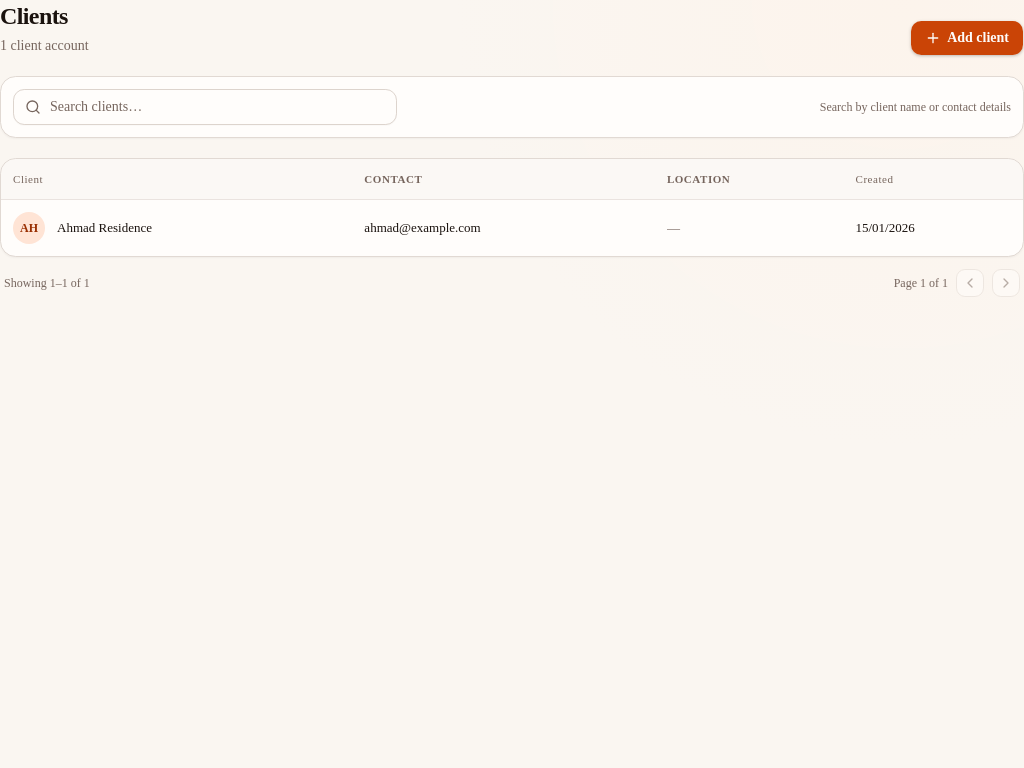
it: ClientList › opens a create dialog and refreshes the list after a successful create
Expected: the text "Ahmad Residence" is shown, x1=57 y1=218 x2=152 y2=237
Click the button "Add client" at {"x": 967, "y": 38}, box x1=910 y1=20 x2=1023 y2=56
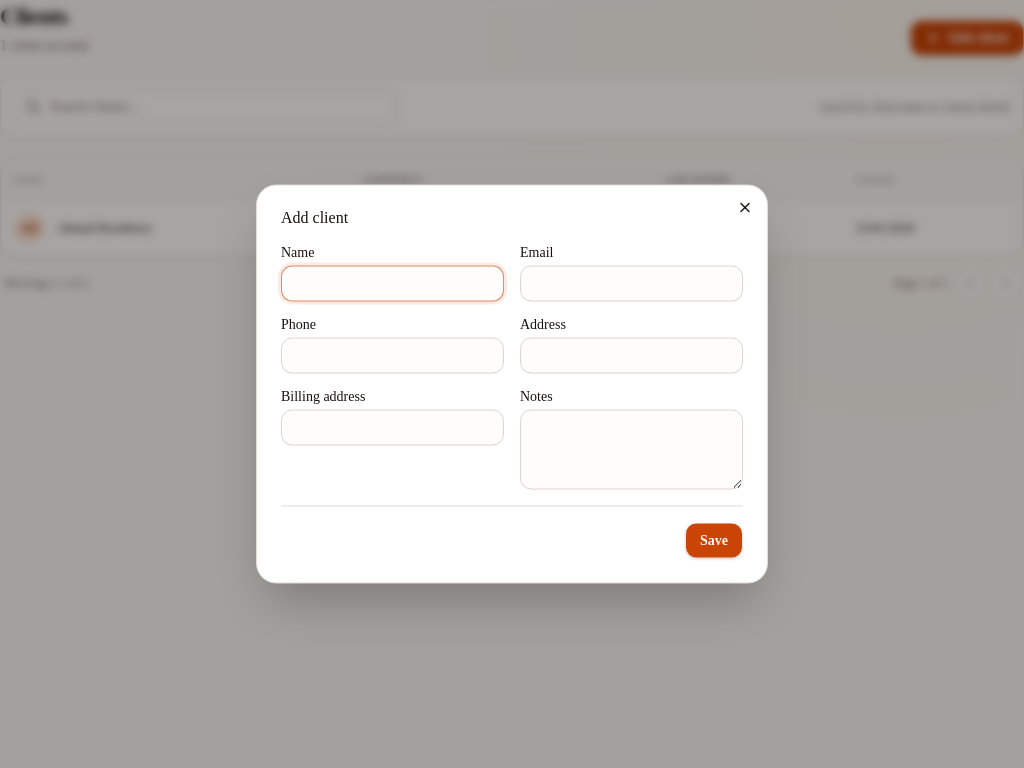
Type "New Client" into the field labelled "Name" at {"x": 392, "y": 284}, box x1=281 y1=266 x2=504 y2=302
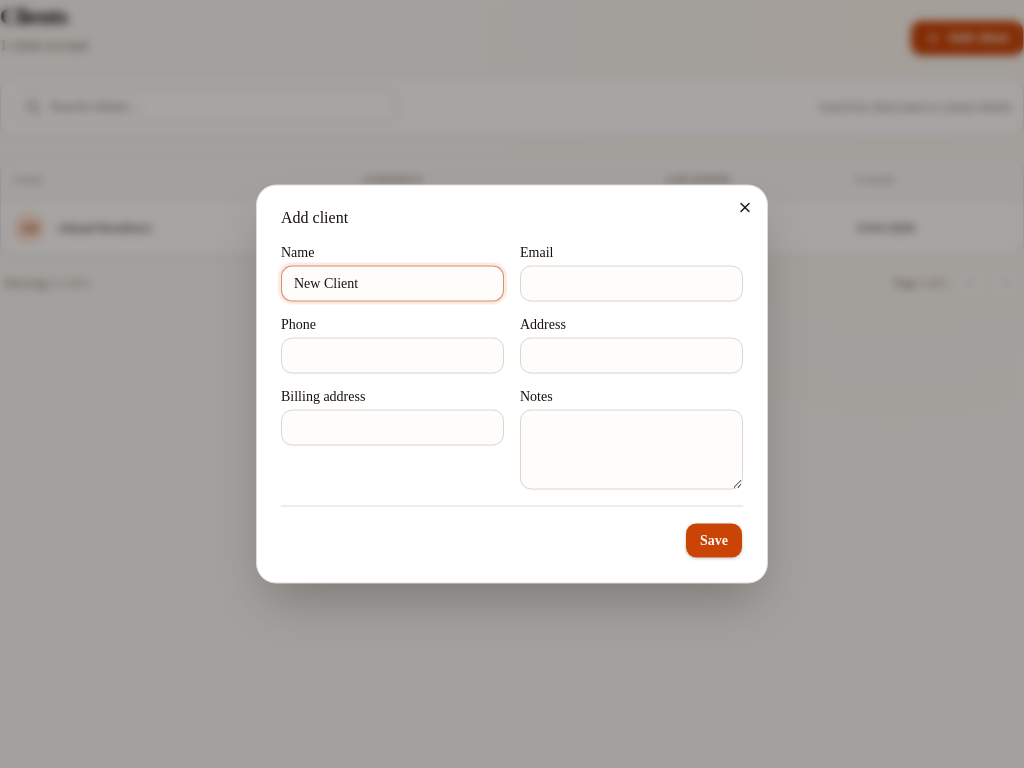
Click the button "Save" at {"x": 714, "y": 540}, box x1=685 y1=522 x2=743 y2=558
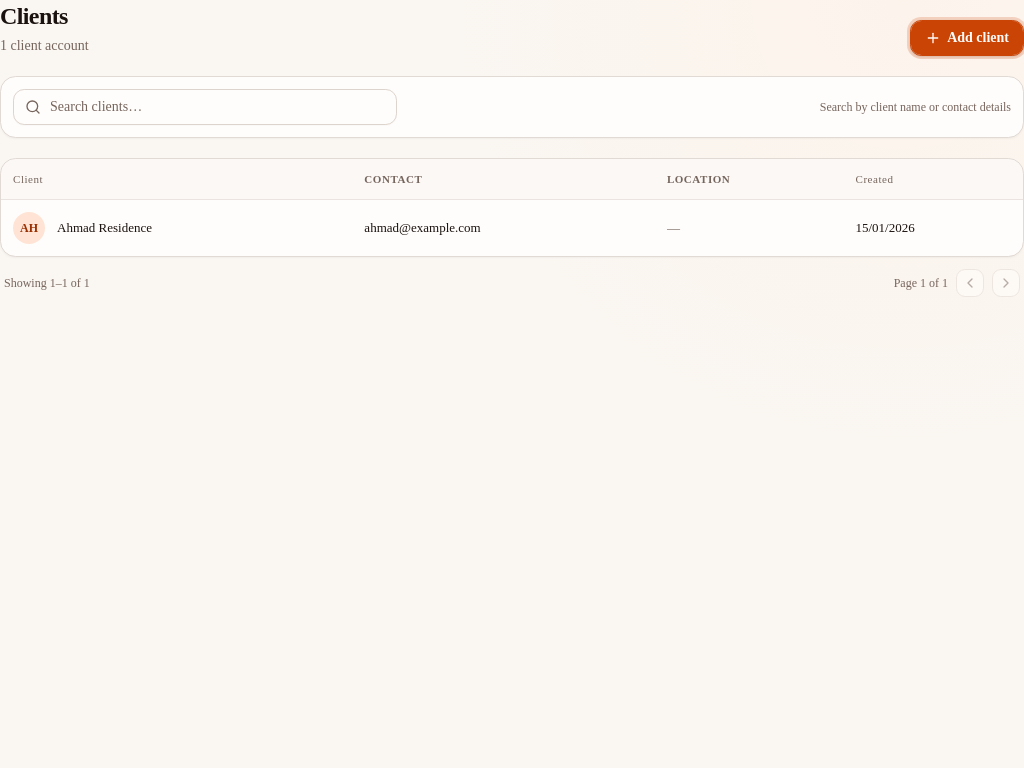
Now the dialog is gone
